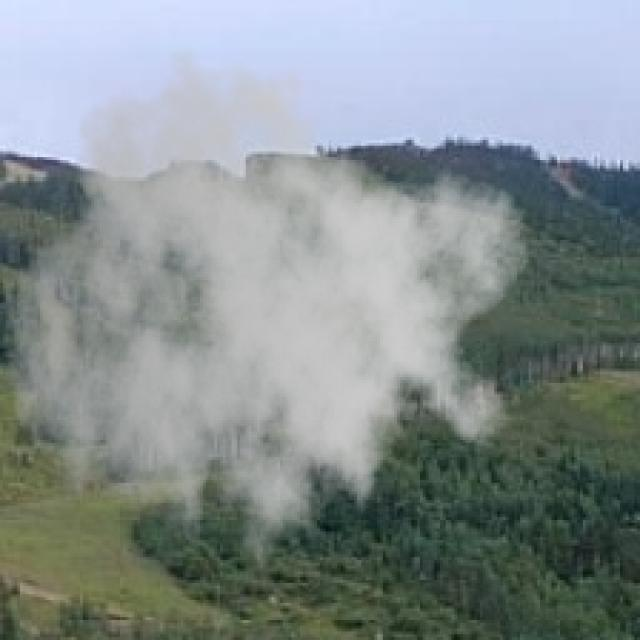smoke: (3, 34, 531, 597)
